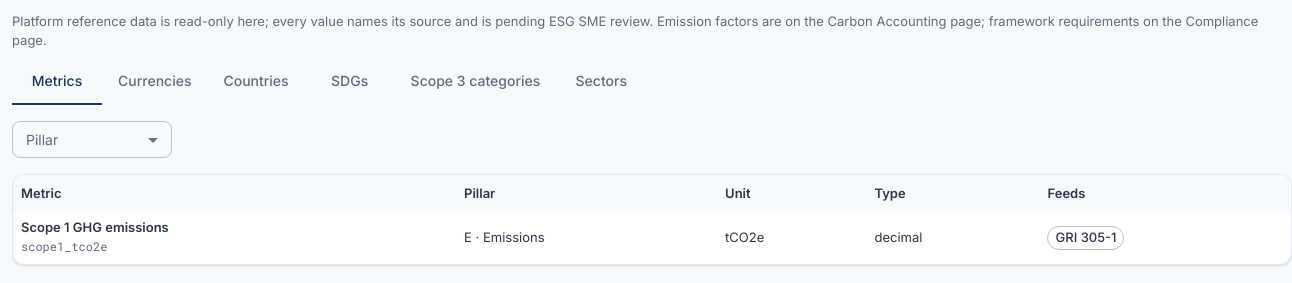
Test case: ReferenceDataTab › shows the metric catalogue with framework links and the other catalogues with their source
Check: the text "Scope 1 GHG emissions" is shown, box [21, 219, 169, 235]
Check: the text "GRI 305-1" is shown, box [1056, 229, 1116, 245]
Click the tab "Currencies": {"x": 155, "y": 81} [102, 57, 208, 105]
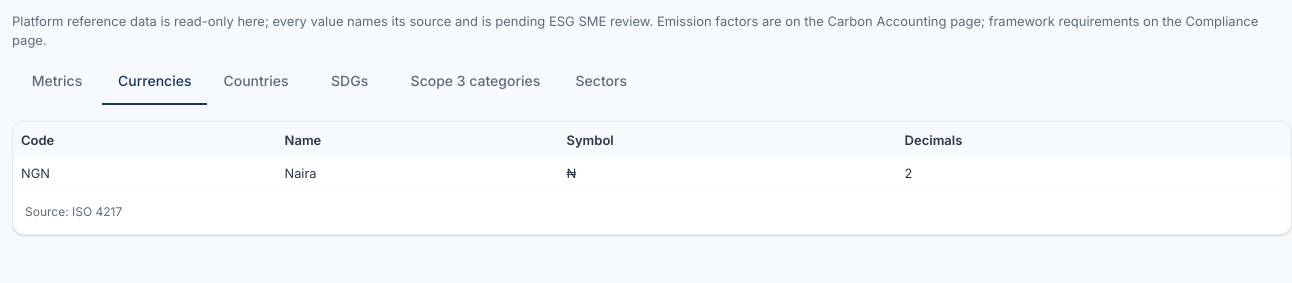
Check: the table named "Currencies" shows "Naira", box [284, 166, 316, 181]
Check: the text "Source: ISO 4217" is shown, box [25, 204, 122, 220]
